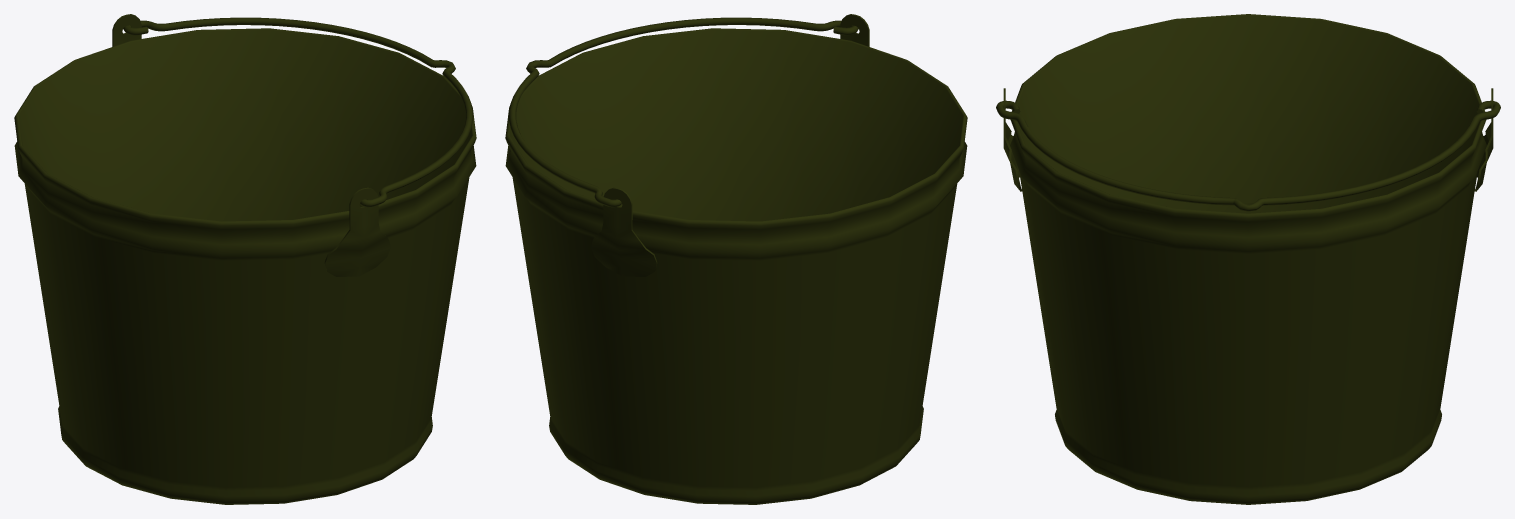
The model's file is Bucket.FBX.
3 views of the same model, side by side, from view 1: azimuth 30°, elevation 25°; view 2: azimuth 150°, elevation 25°; view 3: azimuth 270°, elevation 25° (orthographic). The views are drawn at different scales.
Visible parts, largest first — view 1: Bucket, Bucket handle; view 2: Bucket, Bucket handle; view 3: Bucket, Bucket handle.
Part boxes in pixels (x1,y1,x2,y2): Bucket: (14, 14, 476, 504); Bucket handle: (123, 17, 473, 207); Bucket: (505, 14, 967, 504); Bucket handle: (508, 17, 858, 207); Bucket: (1003, 14, 1493, 504); Bucket handle: (996, 100, 1500, 211).
Bounding box in the file's own units: 379 × 288 × 394.
